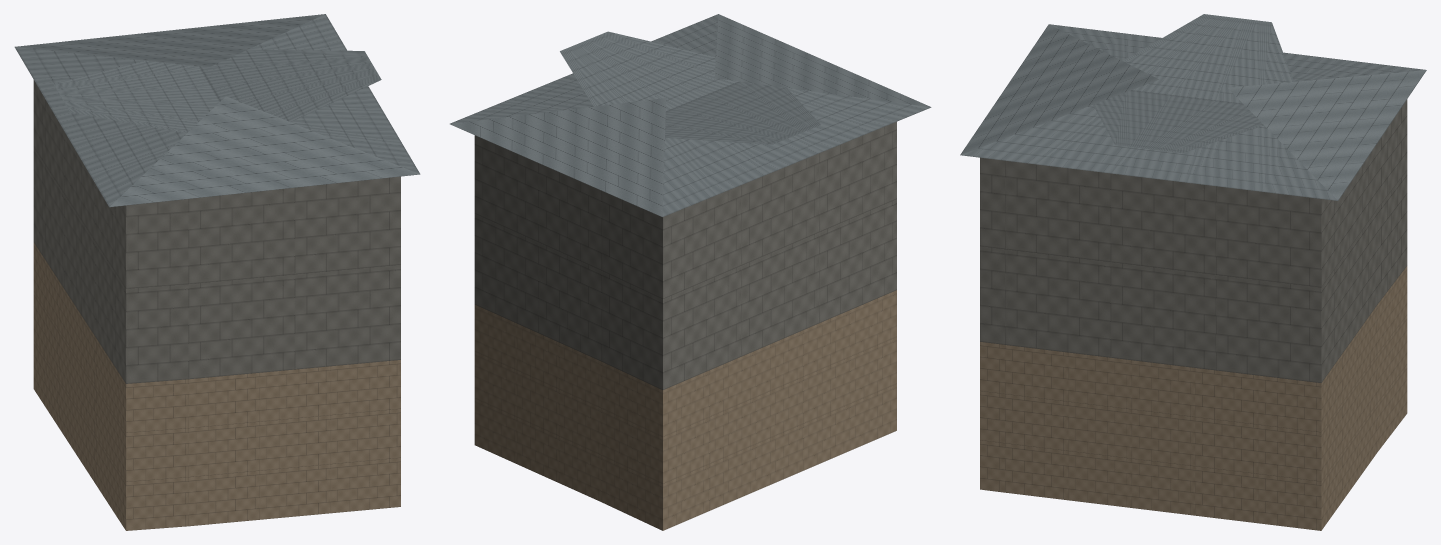
The model's file is bld_c9_27_410.gltf.
The picture shows the model from 3 angles, left to right: view 1: azimuth 30°, elevation 25°; view 2: azimuth 150°, elevation 25°; view 3: azimuth 270°, elevation 25°; orthographic projection. The views are drawn at different scales.
Parts seen in each view (by area): view 1: bld_c9_27_410; view 2: bld_c9_27_410; view 3: bld_c9_27_410.
Part boxes in pixels (bbox=[...]): bld_c9_27_410: bbox=[14, 14, 420, 530]; bld_c9_27_410: bbox=[450, 14, 931, 530]; bld_c9_27_410: bbox=[960, 14, 1426, 530].
Size of the model in its own units: 13.09 by 12.7 by 14.61.
Materials: 3 (3 with a texture image).
